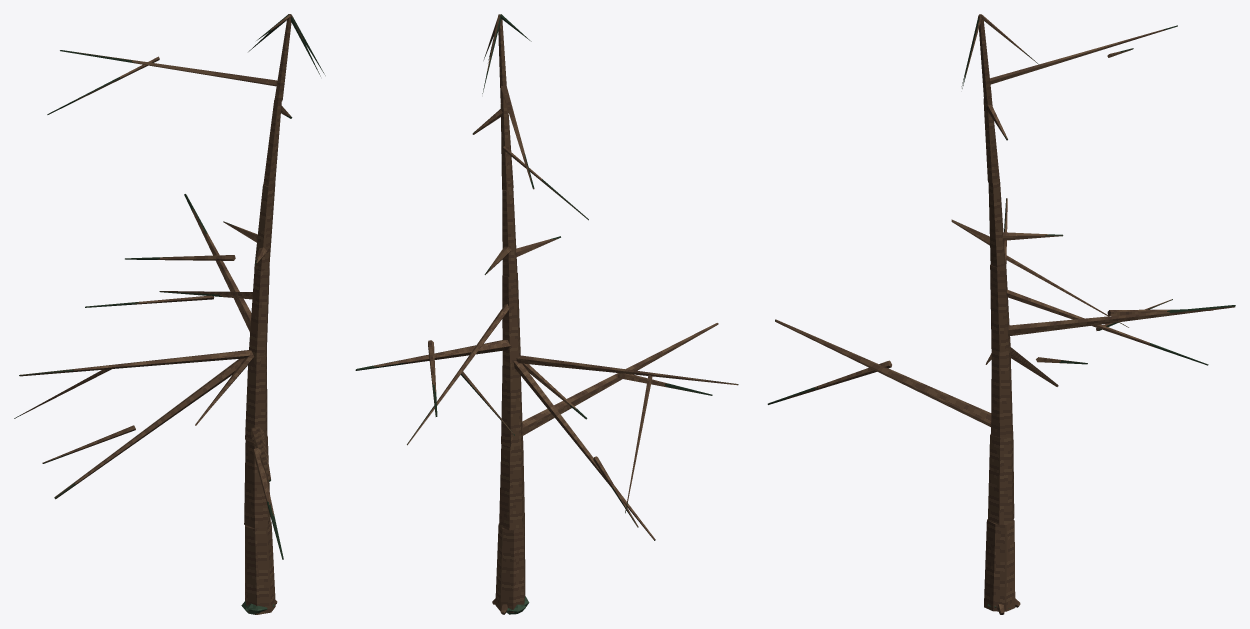
Rendered from snag_04.glb.
3 renders of one model, left to right at view 1: azimuth 30°, elevation 25°; view 2: azimuth 150°, elevation 25°; view 3: azimuth 270°, elevation 25°, orthographic. The views are drawn at different scales.
Parts seen in each view (by area): view 1: snag_04; view 2: snag_04; view 3: snag_04.
Boxes of the visible parts, left/top/right/bottom form: snag_04: left=14, top=14, right=325, bottom=614; snag_04: left=355, top=14, right=738, bottom=614; snag_04: left=767, top=14, right=1235, bottom=614.
Size of the model in its own units: 3.73 by 7.52 by 5.26.
Materials: 2 (2 with a texture image).
